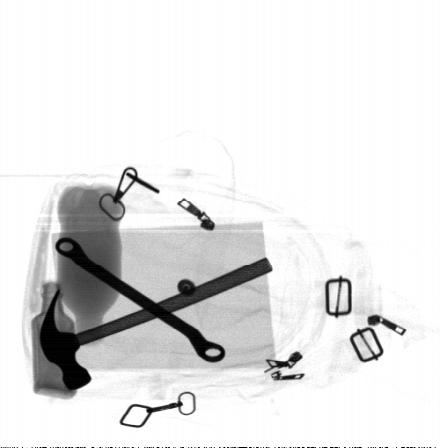Hammer: (38, 257, 274, 390)
Wrench: (55, 236, 226, 363)
